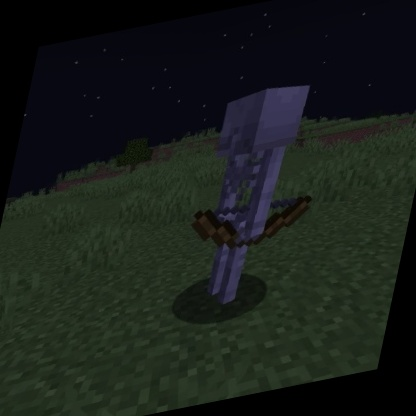skeleton: (167, 70, 342, 320)
